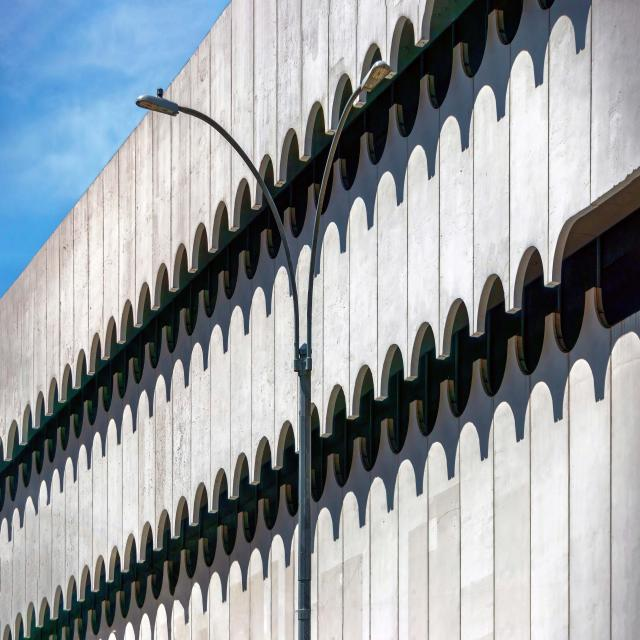Street Light: (136, 59, 391, 640)
